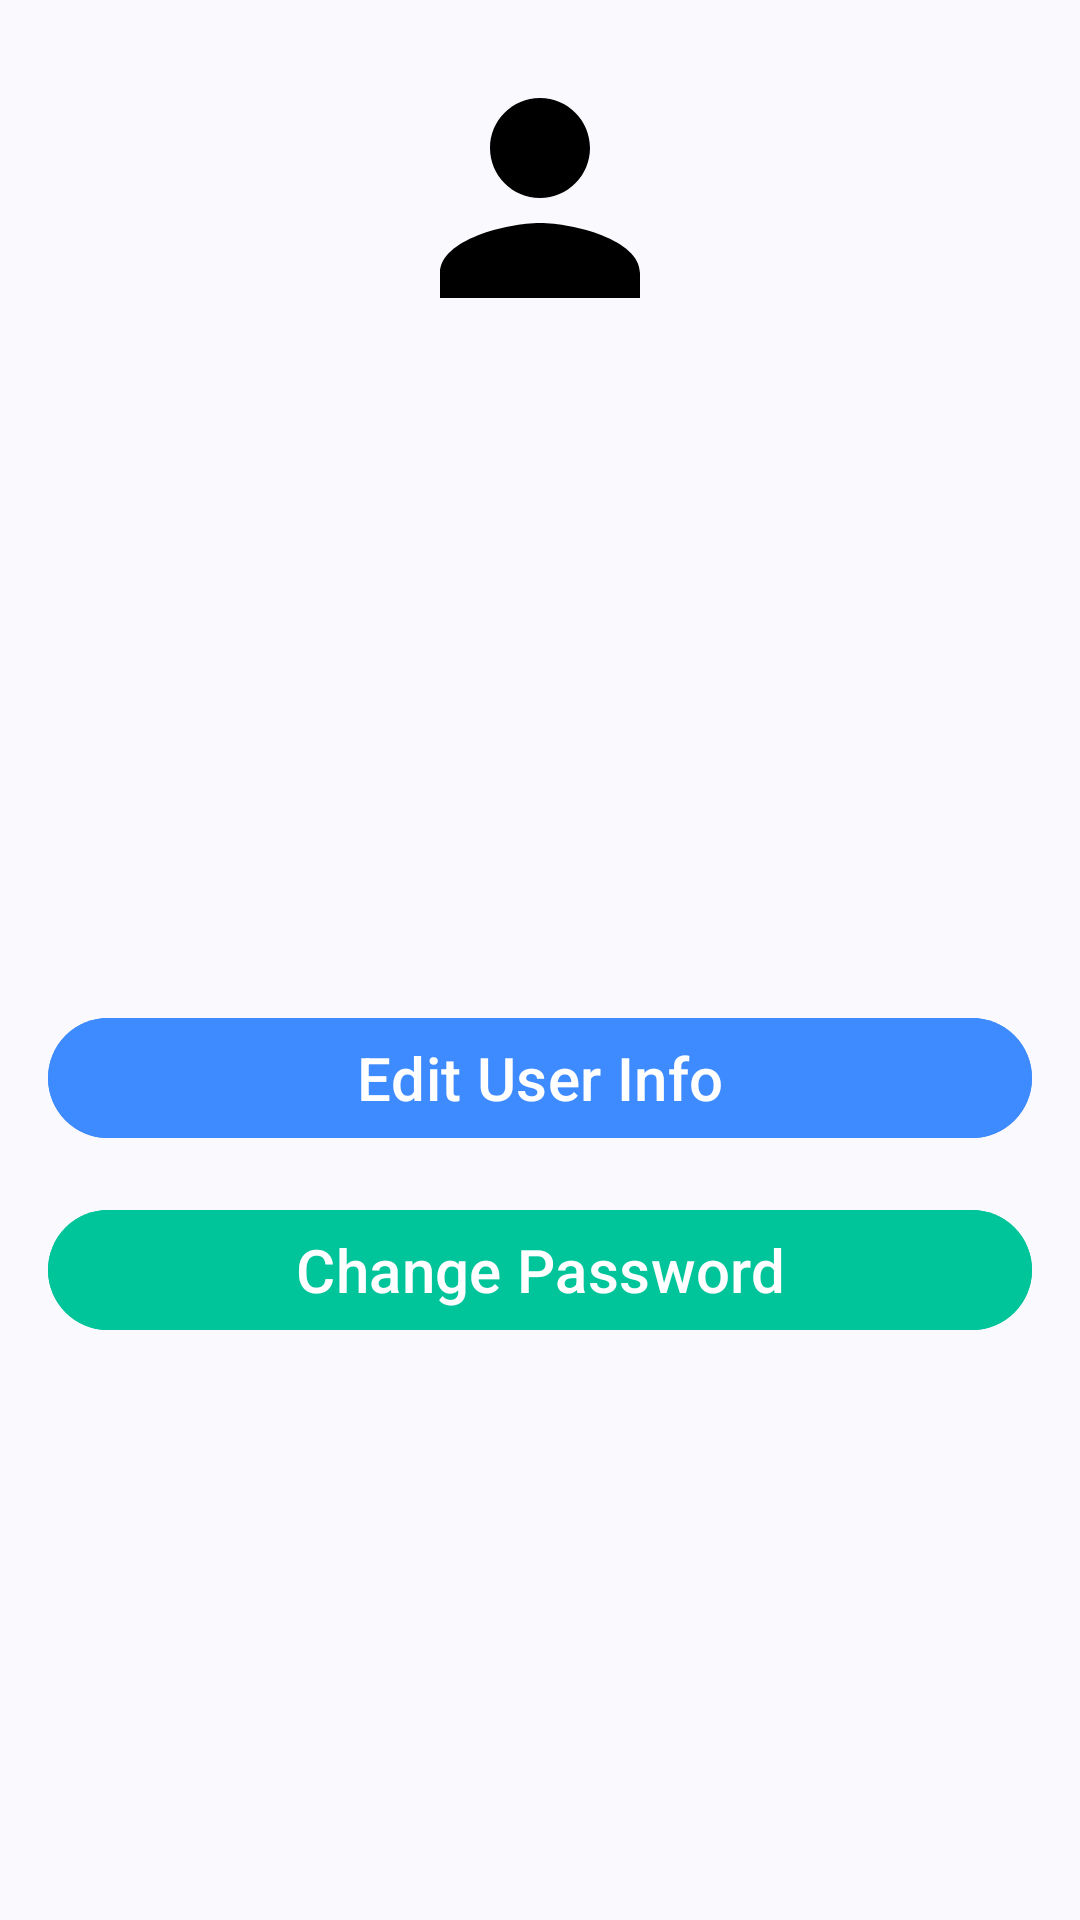

Icon click points for this 1080px×1920px phone screenshot, format (x,y):
User Profile Image: (540,198)
